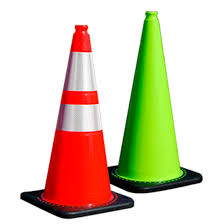cones: (21, 25, 135, 218), (108, 10, 203, 190)
